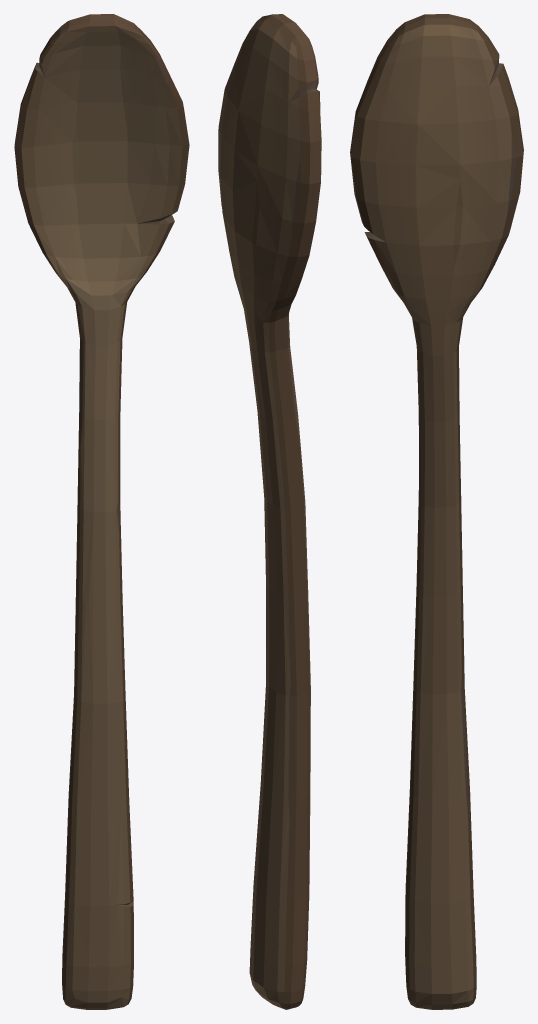
File: bluntLightSpoon.glb
3 views of the same model, side by side, from view 1: azimuth 90°, elevation 25°; view 2: azimuth 210°, elevation 25°; view 3: azimuth 270°, elevation 25° (orthographic).
Visible parts, largest first — view 1: bluntLightSpoon; view 2: bluntLightSpoon; view 3: bluntLightSpoon.
Boxes of the visible parts, <box> form: bluntLightSpoon: <box>14,14,189,1009</box>; bluntLightSpoon: <box>218,14,321,1009</box>; bluntLightSpoon: <box>350,14,523,1009</box>.
Size of the model in its own units: 0.043 by 0.6725 by 0.1074.
